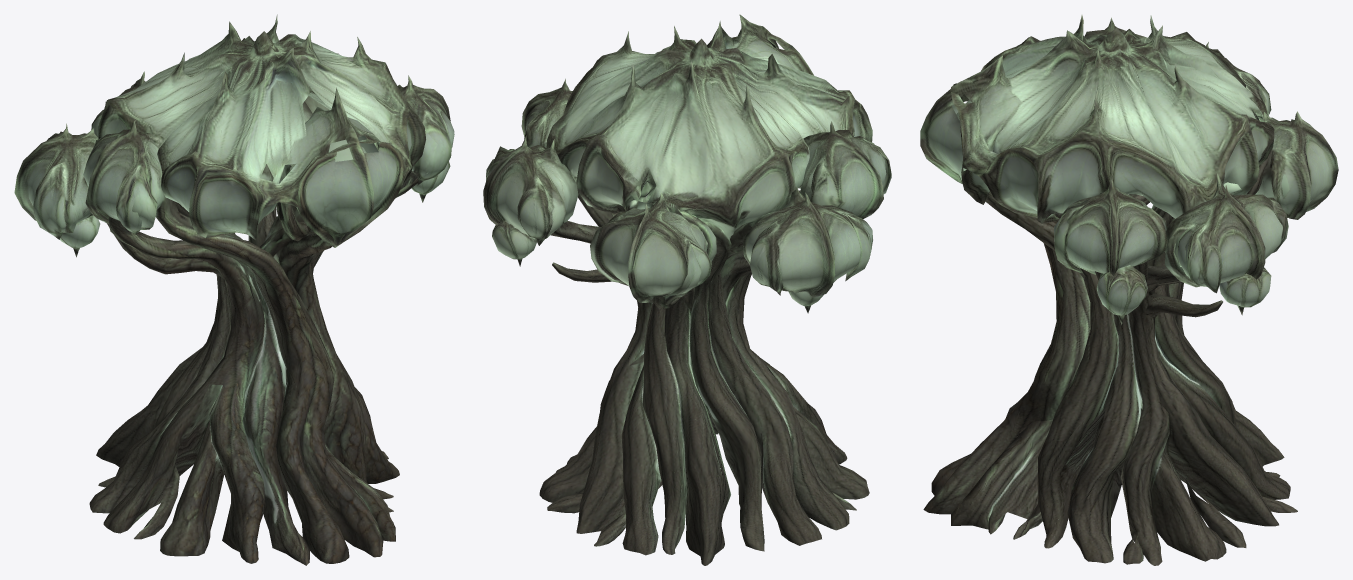
Rendered from alien-tree-bulb.glb.
The picture shows the model from 3 angles, left to right: view 1: azimuth 30°, elevation 25°; view 2: azimuth 150°, elevation 25°; view 3: azimuth 270°, elevation 25°; orthographic projection. The views are drawn at different scales.
Parts seen in each view (by area): view 1: mesh_node; view 2: mesh_node; view 3: mesh_node.
Part boxes in pixels (left/top/right/bottom): mesh_node: left=14, top=14, right=454, bottom=565; mesh_node: left=483, top=14, right=891, bottom=565; mesh_node: left=920, top=15, right=1338, bottom=565.
Size of the model in its own units: 10.52 by 12 by 9.61.
Materials: 1 (1 with a texture image).
